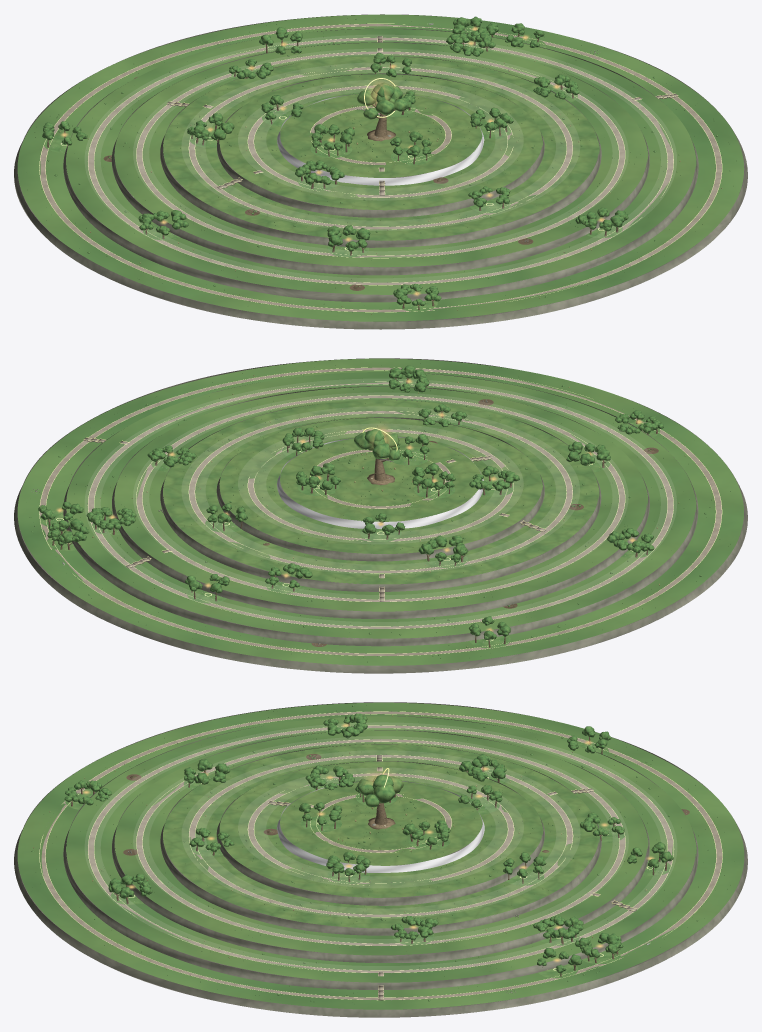
The model's file is growing-place.glb.
The picture shows the model from 3 angles, top to bottom: view 1: azimuth 30°, elevation 25°; view 2: azimuth 150°, elevation 25°; view 3: azimuth 270°, elevation 25°; orthographic projection.
Visible parts, largest first — view 1: terrace_t0_top, terrace_t1_top, terrace_t2_top, terrace_t3_top, paths_earth, terrace_t4_top, grove_trees, terrace_t5_top, terrace_riser0, lit_paths, terrace_riser1, terrace_riser2 (+10 smaller); view 2: terrace_t0_top, terrace_t1_top, terrace_t2_top, terrace_t3_top, paths_earth, terrace_t4_top, grove_trees, terrace_t5_top, terrace_riser0, lit_paths, terrace_riser1, grove_lawns (+10 smaller); view 3: terrace_t0_top, terrace_t1_top, terrace_t2_top, terrace_t3_top, paths_earth, terrace_t4_top, grove_trees, terrace_t5_top, terrace_riser0, lit_paths, terrace_riser1, grove_lawns (+11 smaller).
Part boxes in pixels (x1,y1,x2,y2): terrace_t0_top: [17, 14, 744, 321]; terrace_t1_top: [66, 28, 695, 294]; terrace_t2_top: [114, 42, 647, 267]; terrace_t3_top: [163, 56, 598, 240]; paths_earth: [40, 24, 721, 312]; terrace_t4_top: [219, 74, 542, 210]; grove_trees: [42, 16, 628, 306]; terrace_t5_top: [280, 93, 481, 177]; terrace_riser0: [14, 14, 746, 329]; lit_paths: [39, 23, 722, 312]; terrace_riser1: [63, 28, 698, 302]; terrace_riser2: [111, 42, 649, 275]; terrace_t0_top: [17, 358, 743, 665]; terrace_t1_top: [66, 372, 695, 638]; terrace_t2_top: [114, 386, 647, 611]; terrace_t3_top: [163, 400, 598, 584]; paths_earth: [39, 367, 721, 655]; terrace_t4_top: [219, 418, 542, 553]; grove_trees: [38, 365, 663, 640]; terrace_t5_top: [280, 437, 480, 521]; terrace_riser0: [14, 358, 746, 673]; lit_paths: [39, 367, 722, 656]; terrace_riser1: [63, 373, 698, 646]; grove_lawns: [39, 382, 660, 648]; terrace_t0_top: [17, 702, 744, 1009]; terrace_t1_top: [66, 716, 695, 982]; terrace_t2_top: [114, 730, 647, 955]; terrace_t3_top: [163, 744, 598, 928]; paths_earth: [41, 711, 722, 1000]; terrace_t4_top: [219, 761, 542, 897]; grove_trees: [64, 713, 673, 973]; terrace_t5_top: [280, 781, 481, 865]; terrace_riser0: [14, 702, 747, 1017]; lit_paths: [39, 711, 722, 1000]; terrace_riser1: [63, 716, 698, 989]; grove_lawns: [65, 726, 671, 978].
Bounding box in the file's own units: 1819 × 312 × 1817.
37 materials, 29 textured.
